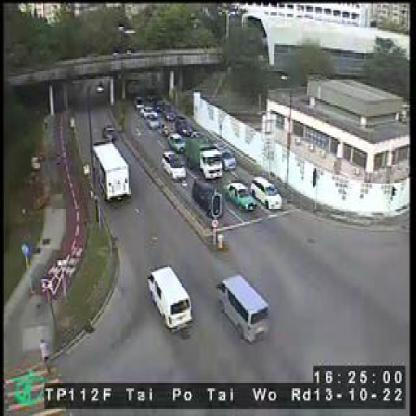Car: (216, 273, 271, 345), (147, 264, 195, 332), (191, 176, 225, 218), (252, 176, 284, 211), (228, 179, 258, 214), (160, 150, 188, 184), (221, 145, 240, 170), (174, 120, 196, 135), (101, 123, 116, 142), (168, 131, 184, 148), (146, 112, 160, 130), (134, 94, 146, 111), (156, 123, 170, 137)
Truck: (90, 140, 130, 203), (185, 134, 222, 181)
